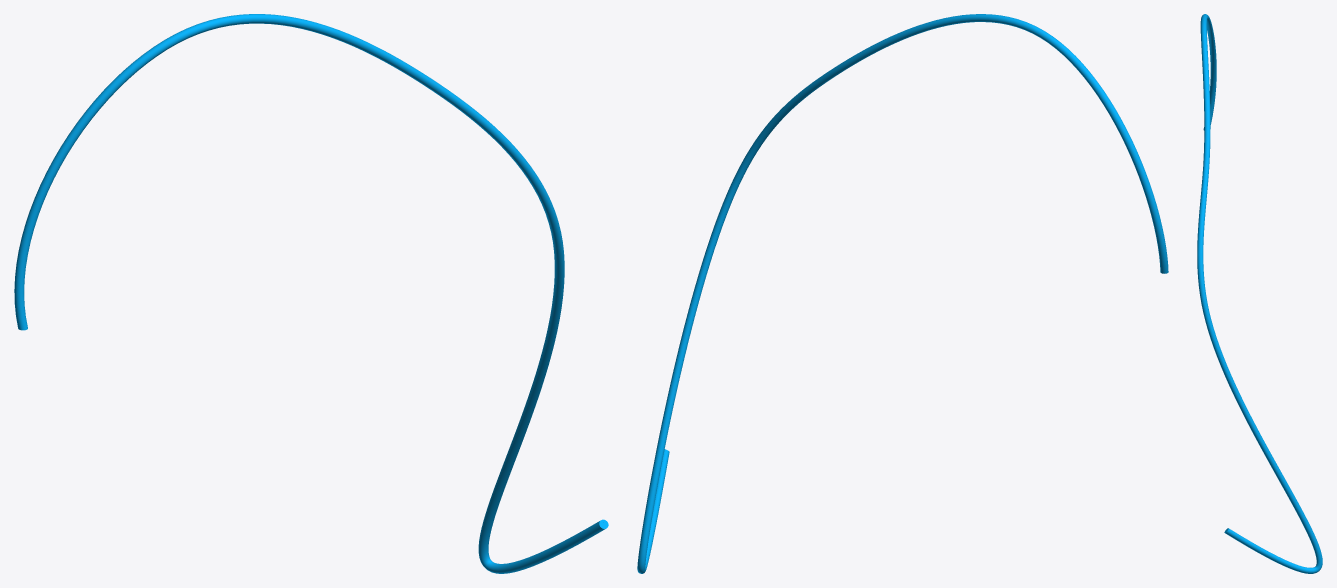
File: jumper_wire.glb
3 renders of one model, left to right at view 1: azimuth 30°, elevation 25°; view 2: azimuth 150°, elevation 25°; view 3: azimuth 270°, elevation 25°, orthographic. The views are drawn at different scales.
Parts seen in each view (by area): view 1: Mesh; view 2: Mesh; view 3: Mesh.
Part boxes in pixels (<box>): Mesh: <box>14,14,608,573</box>; Mesh: <box>637,14,1168,573</box>; Mesh: <box>1197,14,1322,573</box>.
Size of the model in its own units: 0.049 by 0.0545 by 0.0141.
